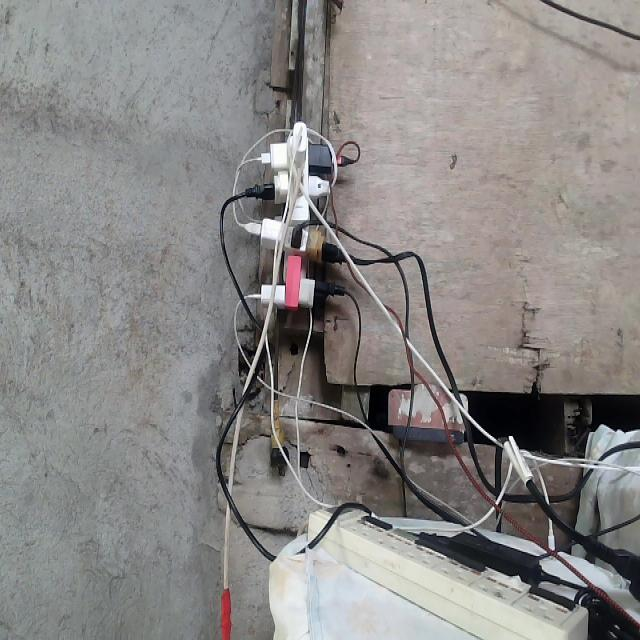-: (231, 119, 360, 308)
